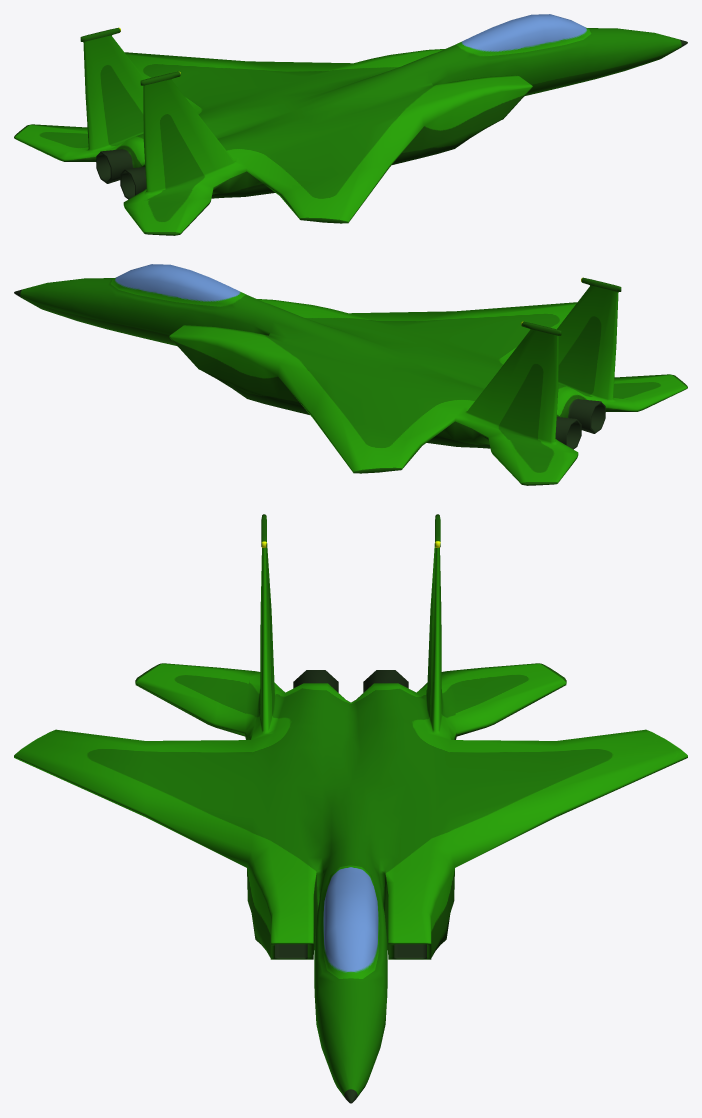
The model's file is BasicPlane.fbx.
The picture shows the model from 3 angles, top to bottom: view 1: azimuth 30°, elevation 25°; view 2: azimuth 150°, elevation 25°; view 3: azimuth 270°, elevation 25°; orthographic projection. The views are drawn at different scales.
Visible parts, largest first — view 1: BasicPlane; view 2: BasicPlane; view 3: BasicPlane.
Boxes of the visible parts, x1=… form: BasicPlane: x1=14, y1=14, x2=687, y2=235; BasicPlane: x1=14, y1=264, x2=687, y2=485; BasicPlane: x1=14, y1=514, x2=687, y2=1103.
Bounding box in the file's own units: 755 × 170 × 499.
